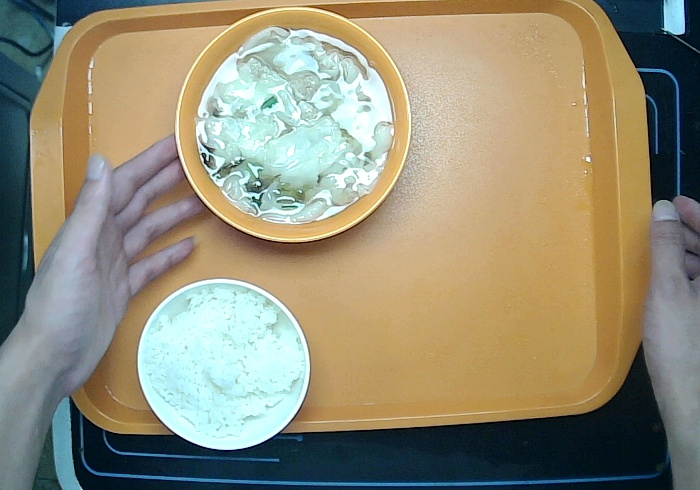NLDX-Fan_Wan: (134, 276, 313, 454)
NLDX-Hun_Tun_Wan: (172, 5, 414, 246)
